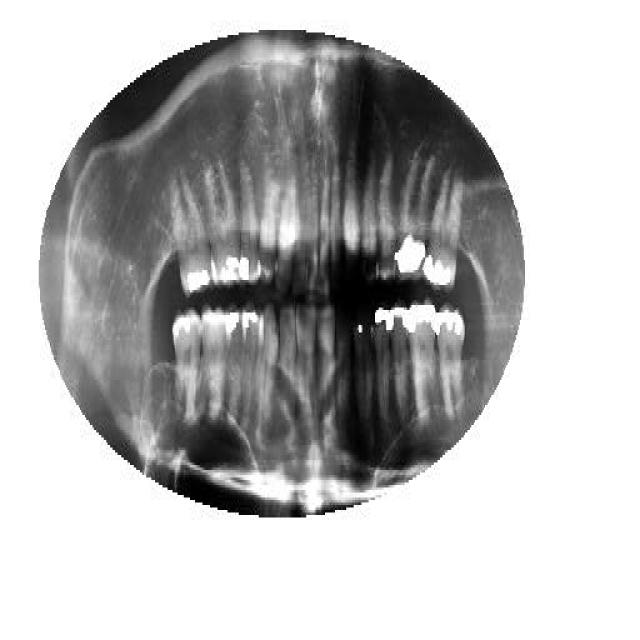Fillings: (395, 148, 434, 282), (423, 165, 462, 295), (170, 170, 210, 295), (205, 160, 239, 285), (435, 308, 470, 418), (408, 298, 438, 422), (172, 310, 202, 422), (236, 155, 259, 290), (389, 300, 409, 428), (225, 298, 241, 430), (374, 303, 391, 425)
